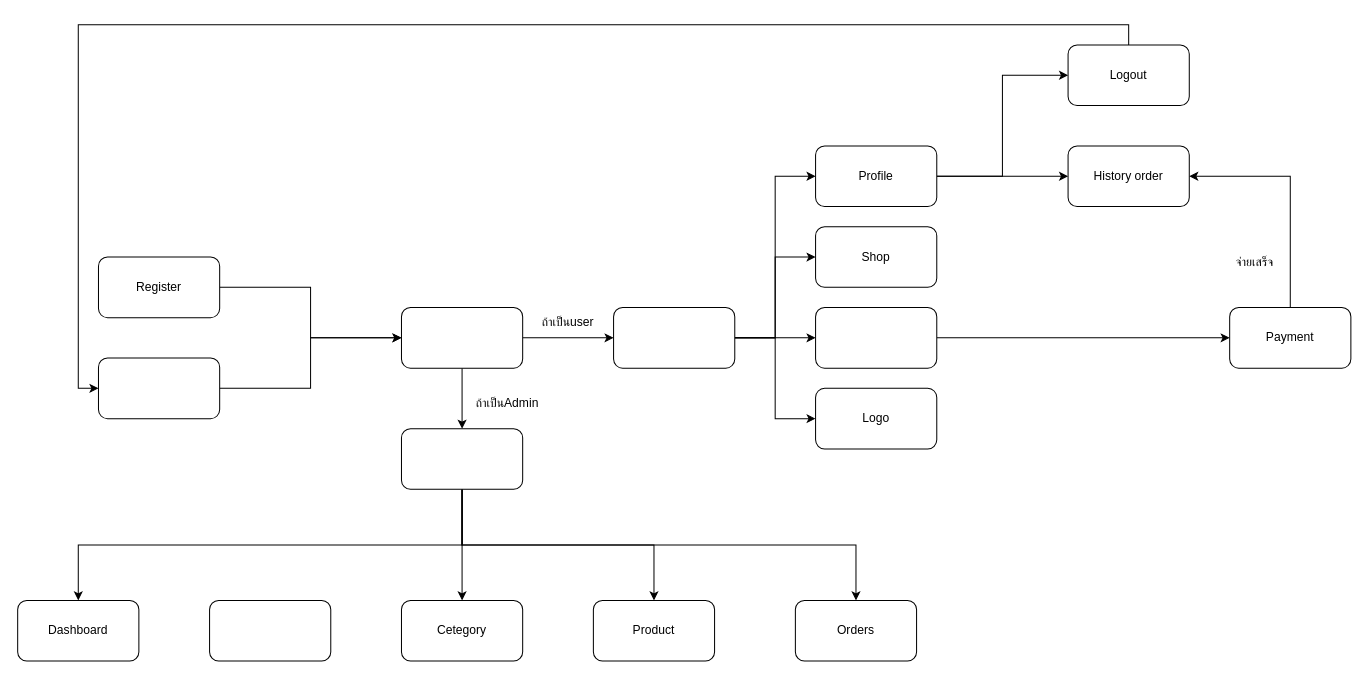
Some shapes in this 1369 by 679 pixel diagram are drawn without their labels. The shapes that lost their labels are listed below. From the top down, each one's centre as x and y in pixels, then its label:
At point (461, 337): "Check admin/user".
At point (674, 337): "Home".
At point (876, 337): "Cart".
At point (158, 388): "Login".
At point (461, 458): "Admin".
At point (270, 630): "Manage".
